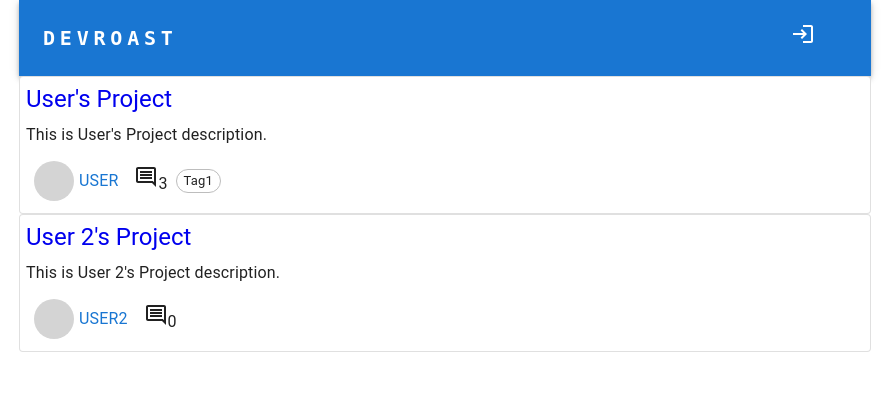
Scenario: Form behavior › Forwards to home on log in
Click the link with id "LogOutButton" at {"x": 803, "y": 34}, box [791, 22, 815, 46]
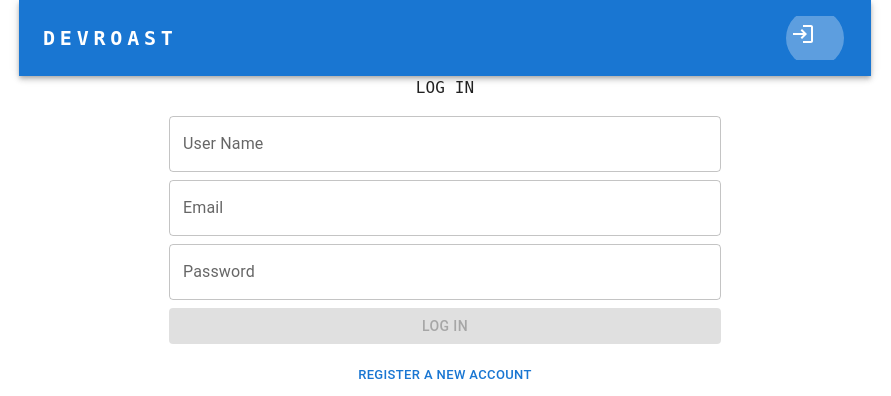
Type "user" into the field named "User Name" at {"x": 445, "y": 144}, box [169, 116, 721, 172]
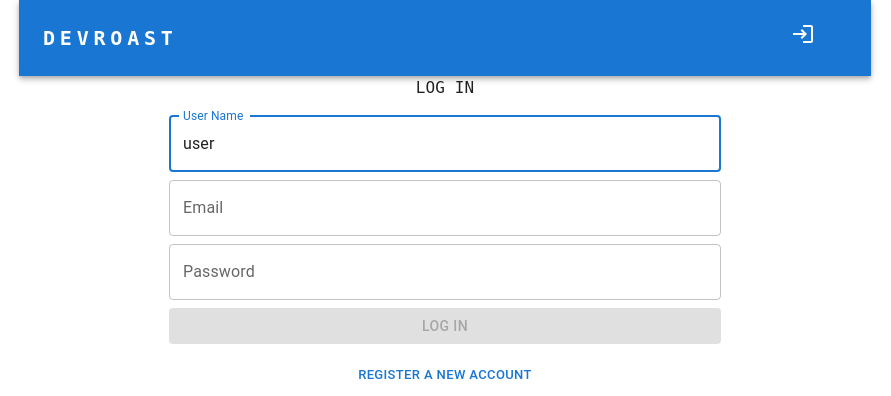
Type "user@example.com" into the field named "Email" at {"x": 445, "y": 208}, box [169, 180, 721, 236]
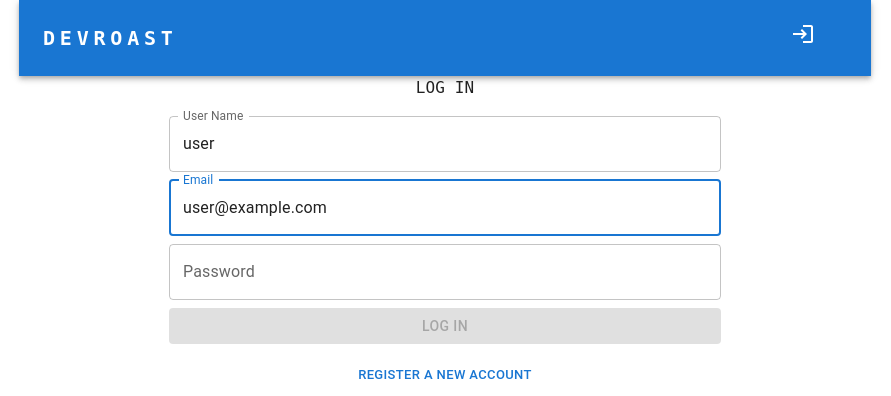
Type "userspword" into the password field named "Password" at {"x": 445, "y": 272}, box [169, 244, 721, 300]
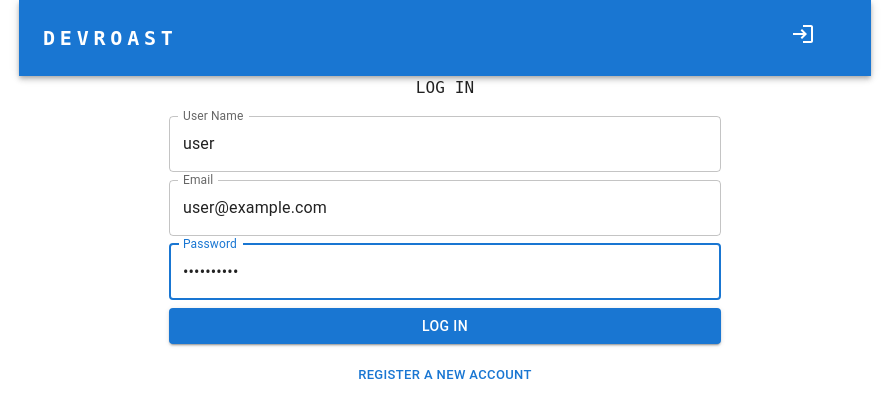
Click the button with id "LoginButton" at {"x": 445, "y": 327}, box [169, 308, 721, 345]
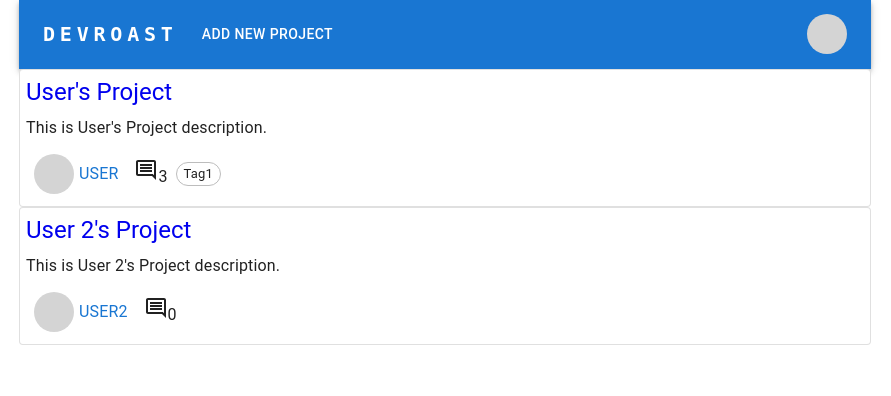
Result: the element that starts with "User's Project" is shown
